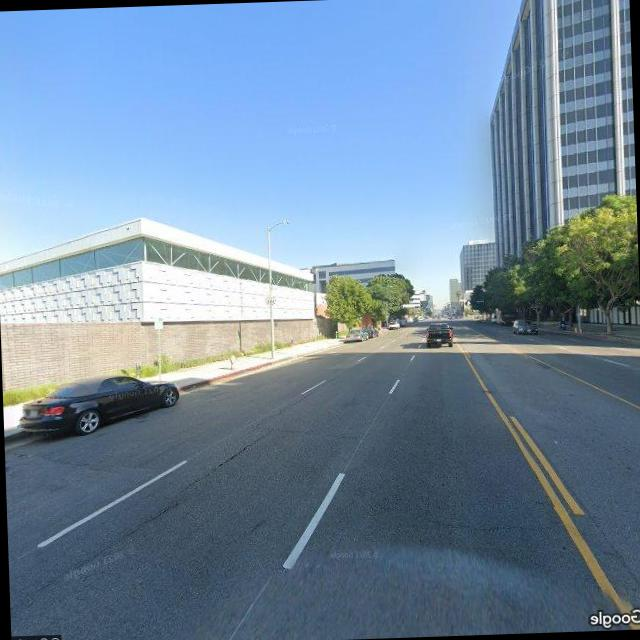crack: (137, 428, 276, 522), (428, 511, 560, 538)
